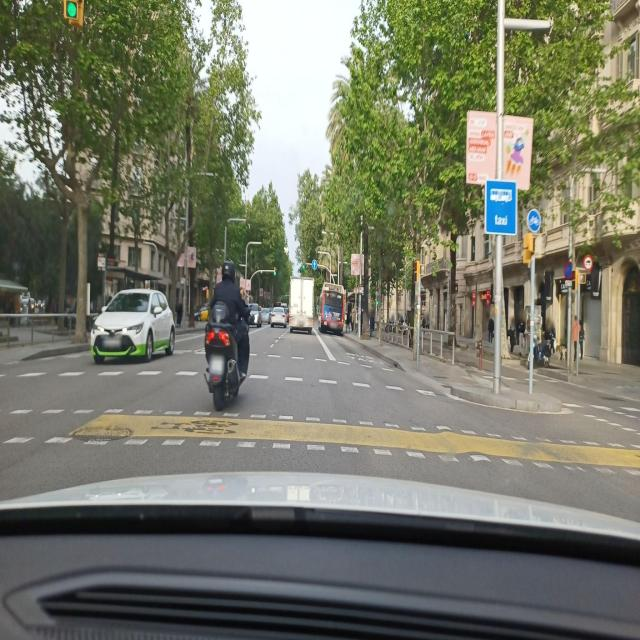forb_stopping: (564, 262, 573, 280)
